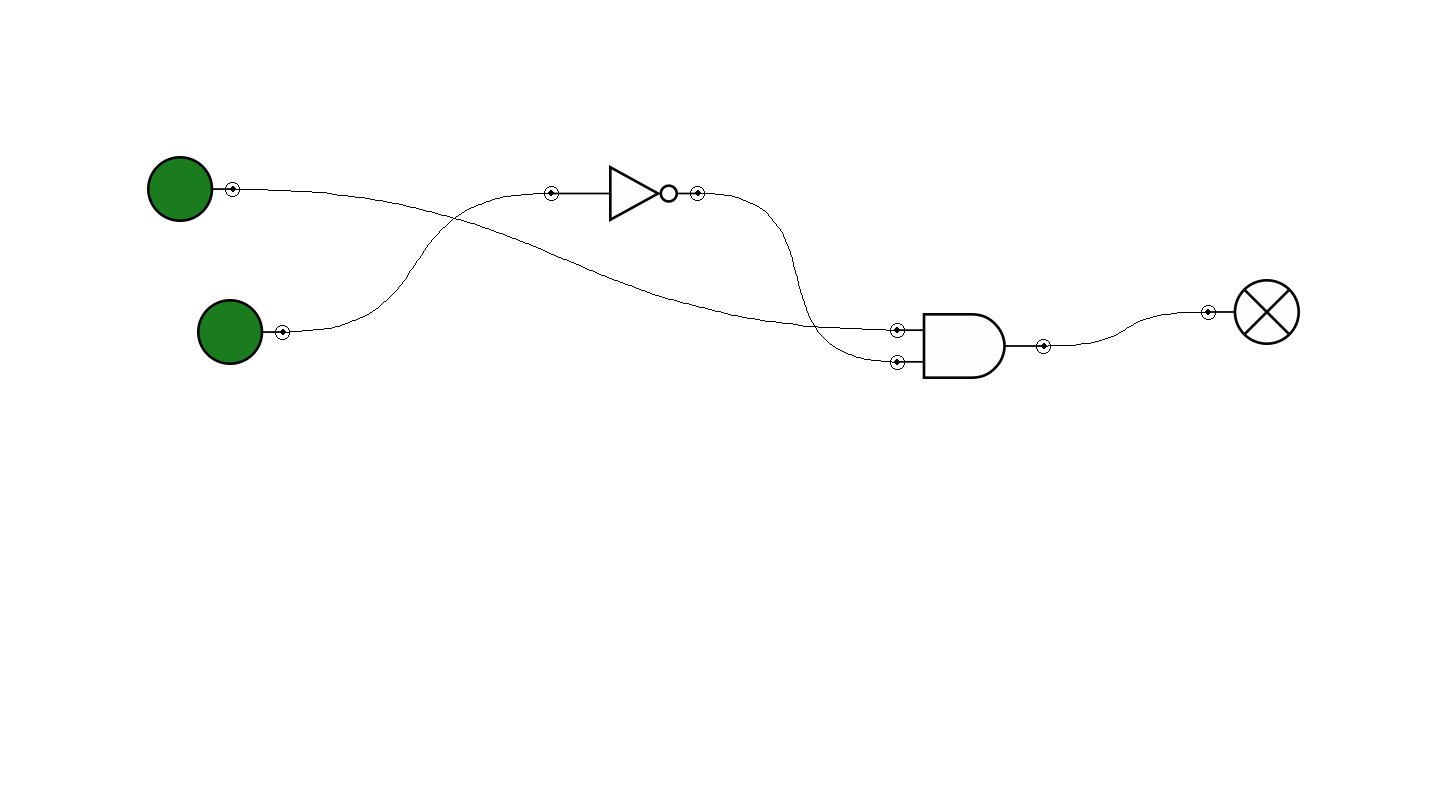and: (890, 313, 1051, 379)
bulb: (1201, 279, 1300, 345)
not: (544, 165, 705, 222)
switch_True: (147, 156, 240, 222), (197, 299, 290, 365)
